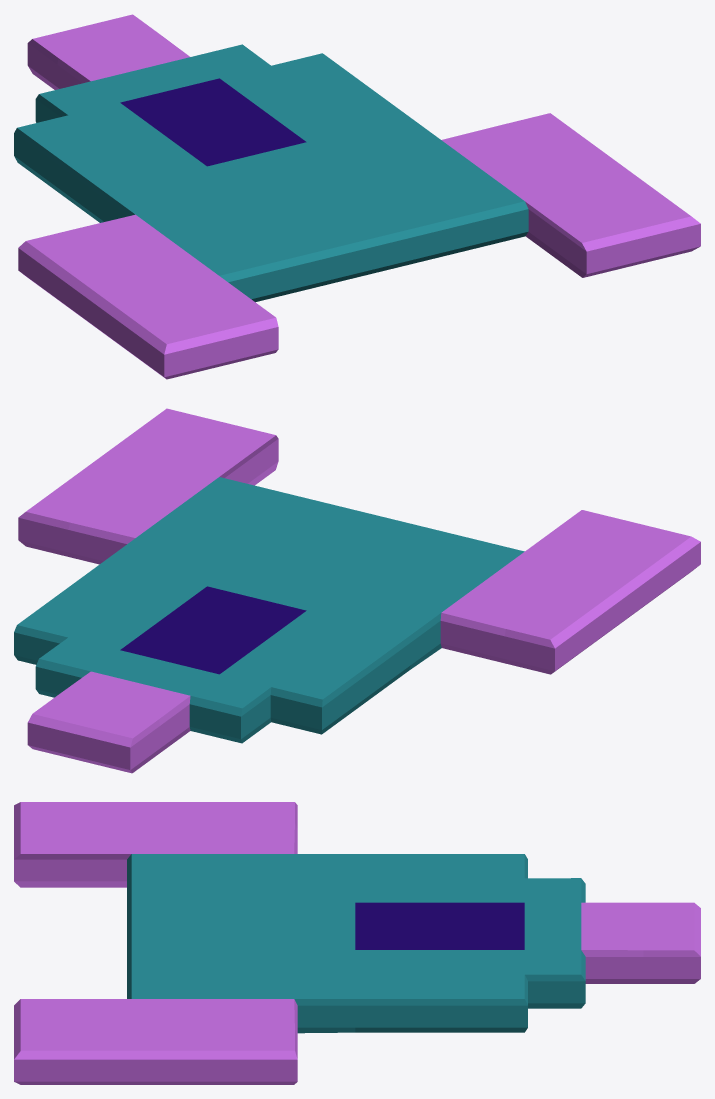
Rendered from Nave 1 la buena.fbx.
3 renders of one model, top to bottom at view 1: azimuth 30°, elevation 25°; view 2: azimuth 150°, elevation 25°; view 3: azimuth 270°, elevation 25°, orthographic. The views are drawn at different scales.
Parts seen in each view (by area): view 1: NAve 1; view 2: NAve 1; view 3: NAve 1.
Boxes of the visible parts, x1,y1,x2,y2 form: NAve 1: [14, 14, 700, 379]; NAve 1: [14, 408, 700, 773]; NAve 1: [14, 802, 700, 1084].
Bounding box in the file's own units: 1249 × 78.14 × 1425.
